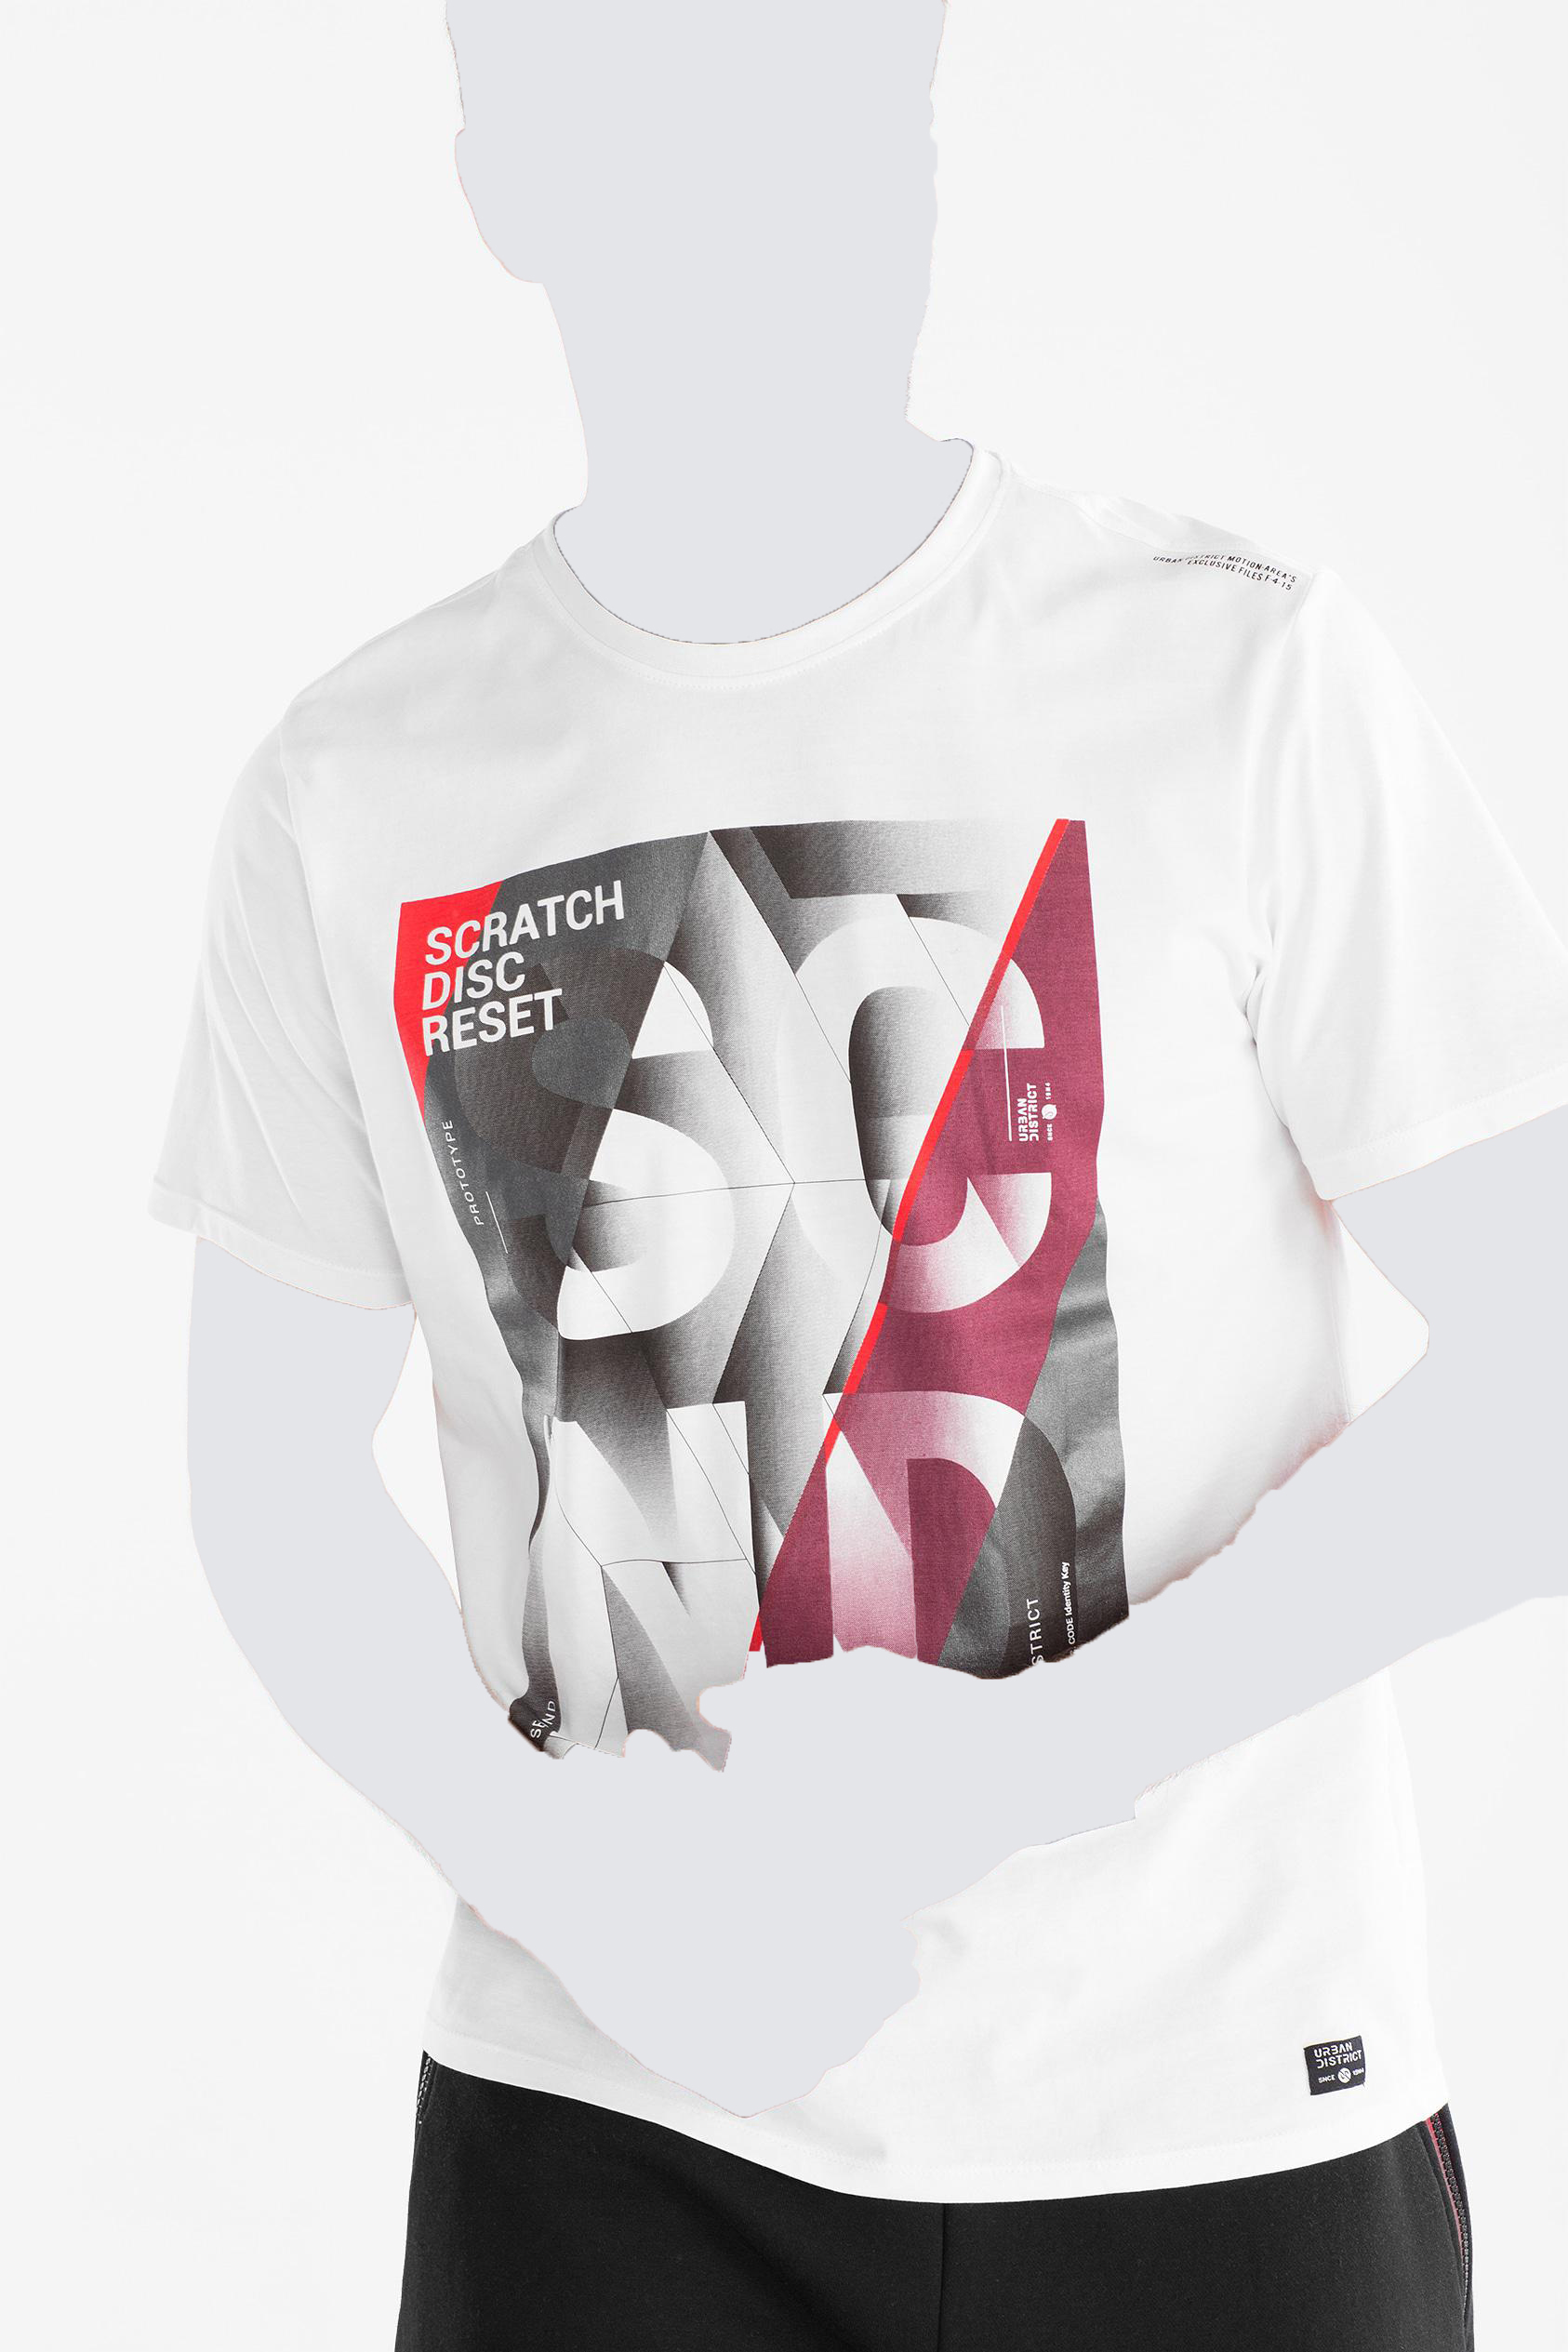teeshirt: (156, 436, 1568, 2210)
